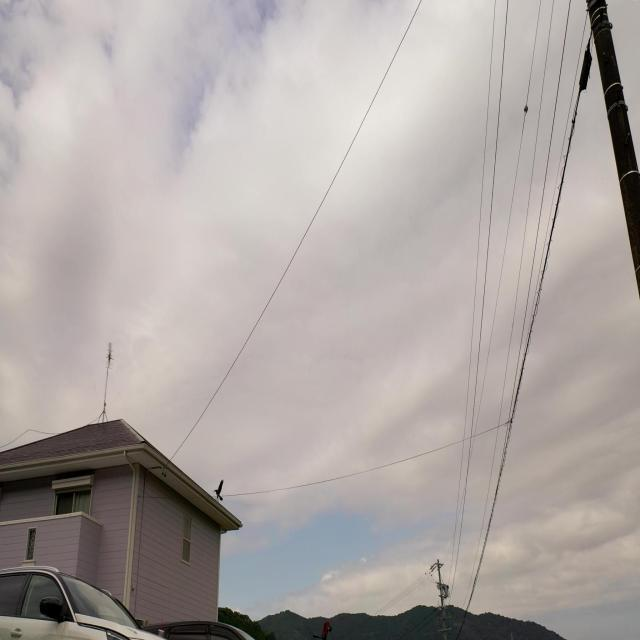Birds: (208, 472, 228, 508)
